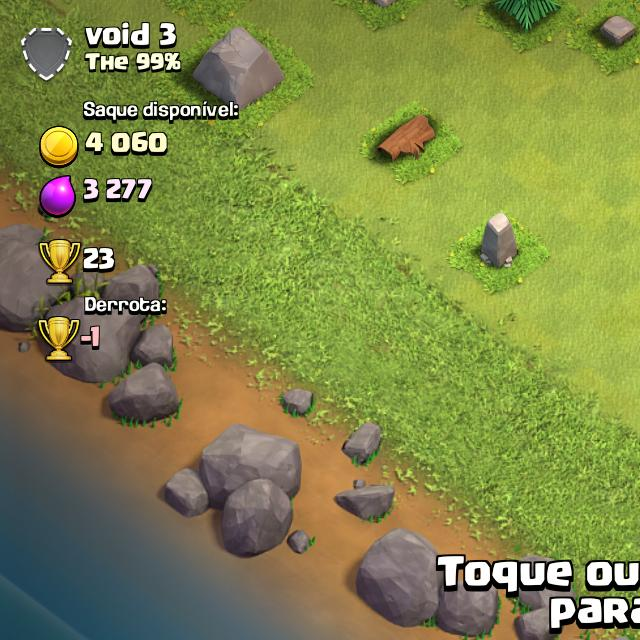ValueCoin: (84, 125, 172, 167)
ValueElixir: (76, 173, 158, 211)
